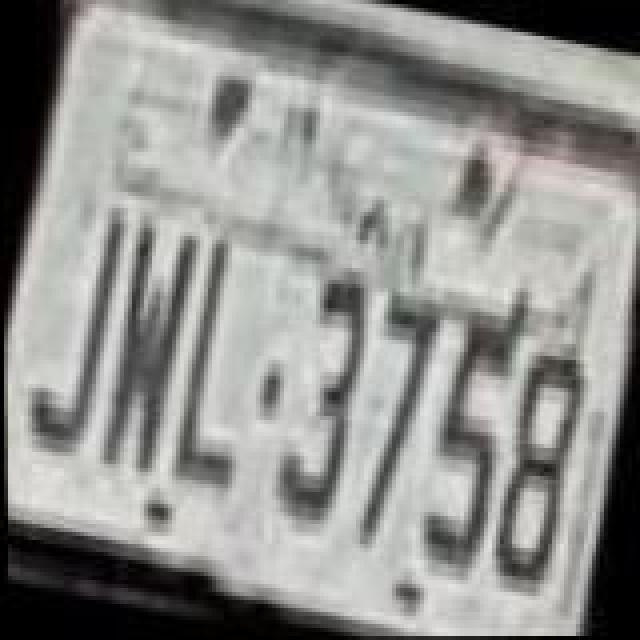3: (262, 264, 382, 532)
5: (406, 308, 530, 588)
7: (328, 282, 452, 558)
8: (478, 344, 602, 600)
J: (14, 188, 138, 460)
L: (158, 228, 282, 500)
W: (88, 210, 208, 486)
